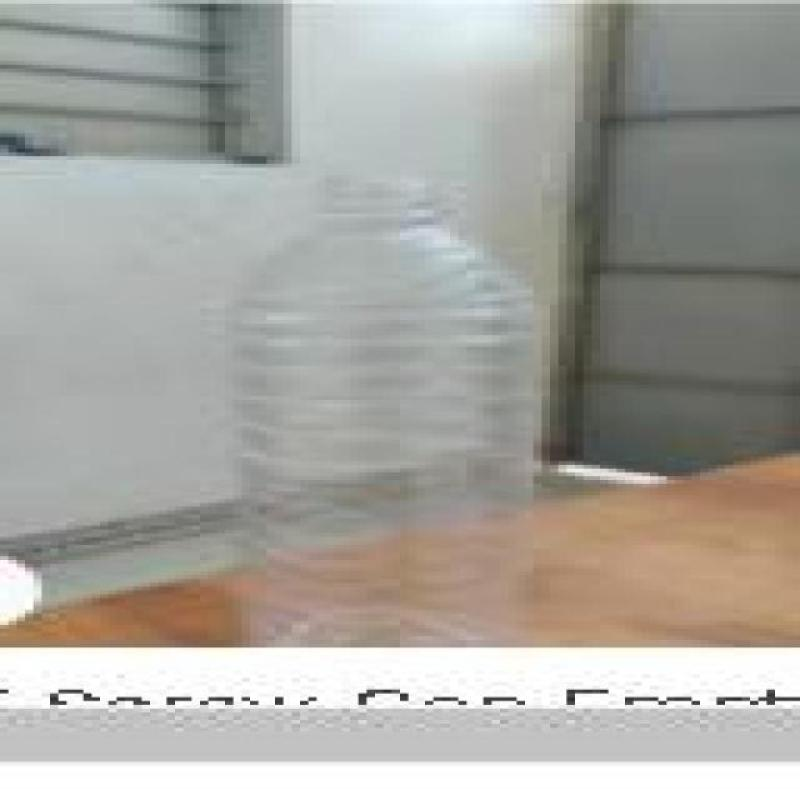botella: (204, 177, 537, 649)
